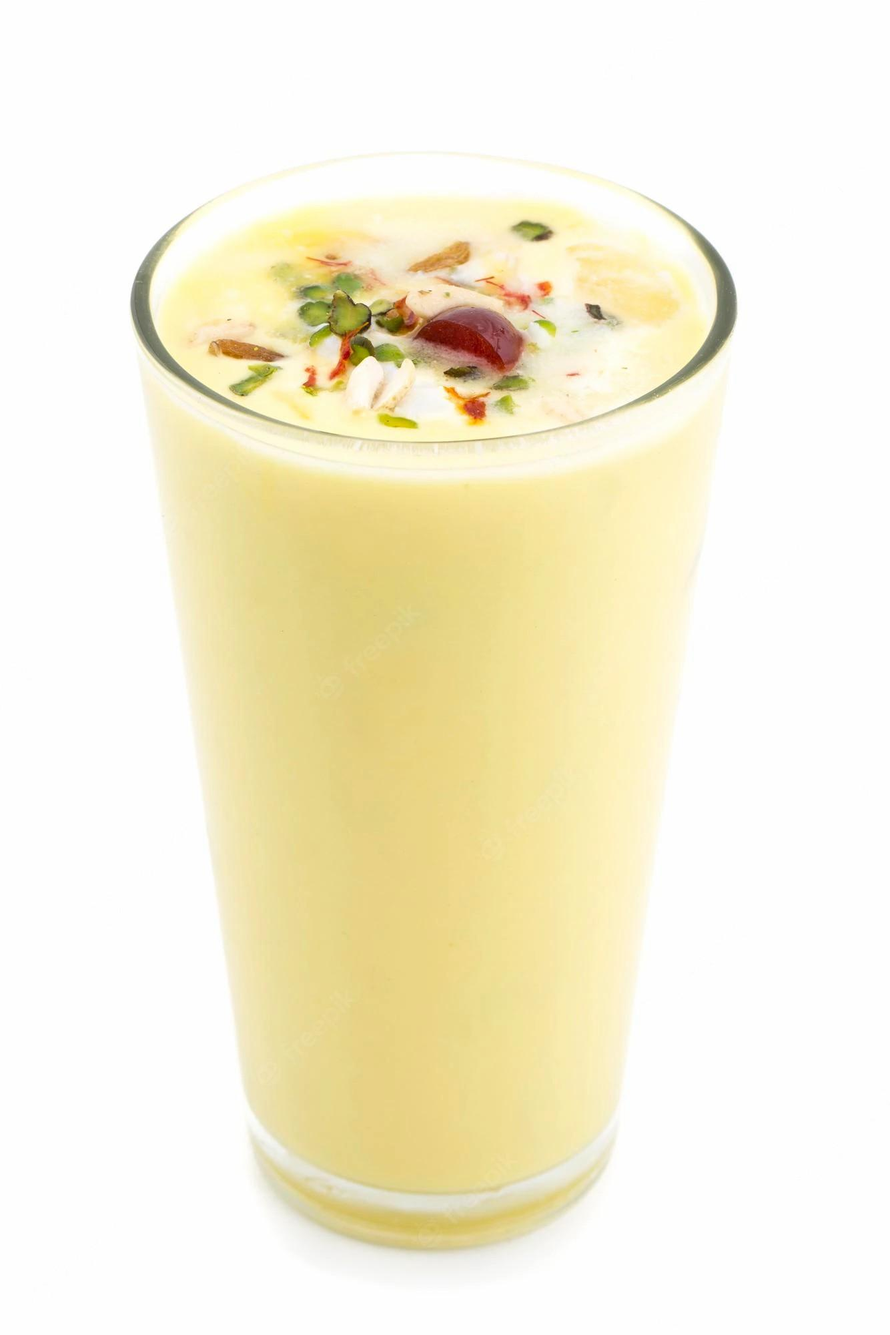Lassi: (150, 198, 719, 1195)
